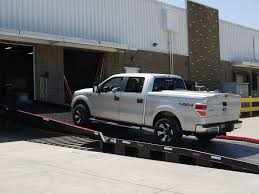Yard Ramp: (7, 99, 259, 173)
